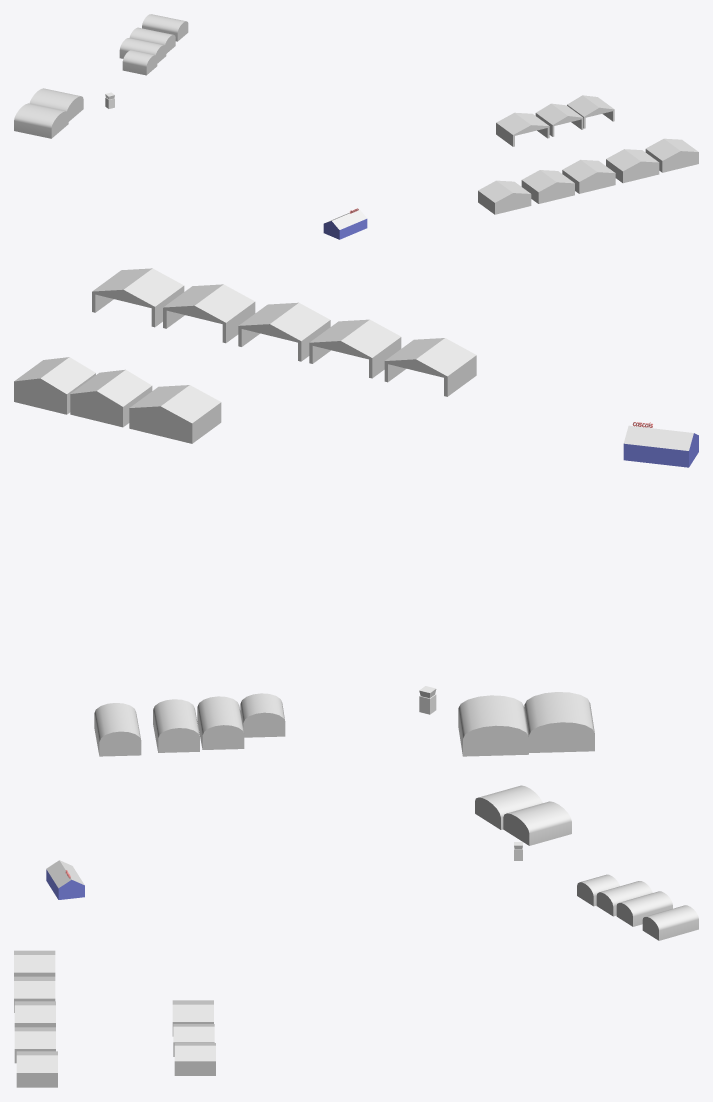
File: Cascais.glb
The picture shows the model from 3 angles, top to bottom: view 1: azimuth 30°, elevation 25°; view 2: azimuth 150°, elevation 25°; view 3: azimuth 270°, elevation 25°; orthographic projection. The views are drawn at different scales.
Visible parts, largest first — view 1: Buffer Object 10, Merged Objects 9, Merged Objects 7, Merged Objects 10, Merged Objects 8, Merged Objects 6, Merged Objects 3, Merged Objects 4, Merged Objects 5, Buffer Object, Buffer Object 8; view 2: Buffer Object 10, Merged Objects 3, Merged Objects 9, Merged Objects 4, Merged Objects 7, Merged Objects 10, Merged Objects 5, Merged Objects 8, Merged Objects 6, Buffer Object, Buffer Object 8; view 3: Buffer Object 10, Merged Objects 6, Merged Objects 5, Merged Objects 8, Merged Objects 9, Merged Objects 10, Merged Objects 7, Merged Objects 3, Merged Objects 4, Buffer Object, Buffer Object 8.
Part boxes in pixels (x1,y1,x2,y2): Buffer Object 10: [14, 14, 188, 138]; Merged Objects 9: [478, 180, 531, 214]; Merged Objects 7: [606, 149, 659, 183]; Merged Objects 10: [521, 170, 574, 203]; Merged Objects 8: [562, 159, 615, 193]; Merged Objects 6: [645, 138, 698, 172]; Merged Objects 3: [496, 112, 549, 146]; Merged Objects 4: [535, 103, 583, 136]; Merged Objects 5: [567, 95, 614, 128]; Buffer Object: [323, 219, 367, 239]; Buffer Object 8: [326, 209, 366, 229]; Buffer Object 10: [94, 692, 594, 756]; Merged Objects 3: [129, 385, 221, 443]; Merged Objects 9: [384, 338, 476, 396]; Merged Objects 4: [70, 369, 152, 427]; Merged Objects 7: [163, 284, 255, 343]; Merged Objects 10: [309, 319, 401, 378]; Merged Objects 5: [14, 357, 95, 414]; Merged Objects 8: [238, 302, 330, 361]; Merged Objects 6: [92, 268, 184, 327]; Buffer Object: [623, 433, 698, 467]; Buffer Object 8: [623, 425, 693, 450]; Buffer Object 10: [475, 785, 698, 940]; Merged Objects 6: [16, 1051, 57, 1087]; Merged Objects 5: [174, 1043, 215, 1075]; Merged Objects 8: [14, 1001, 55, 1027]; Merged Objects 9: [14, 950, 55, 976]; Merged Objects 10: [14, 976, 55, 1012]; Merged Objects 7: [14, 1027, 55, 1063]; Merged Objects 3: [172, 1000, 213, 1036]; Merged Objects 4: [173, 1024, 214, 1056]; Buffer Object: [46, 869, 84, 899]; Buffer Object 8: [46, 860, 84, 888].
Bounding box in the file's own units: 522 × 19.76 × 528.
